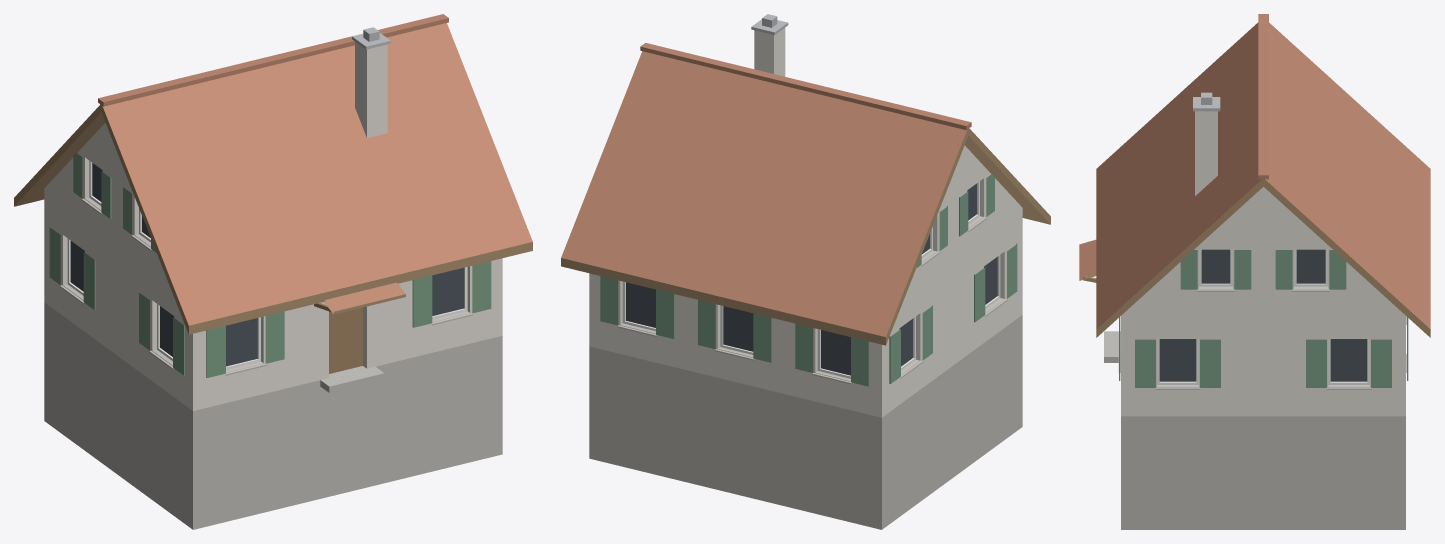
The model's file is house_gable_1_s.glb.
3 views of the same model, side by side, from view 1: azimuth 30°, elevation 25°; view 2: azimuth 150°, elevation 25°; view 3: azimuth 270°, elevation 25° (orthographic). The views are drawn at different scales.
Visible parts, largest first — view 1: house_gable_1_s; view 2: house_gable_1_s; view 3: house_gable_1_s.
Boxes of the visible parts, x1,y1,x2,y2 form: house_gable_1_s: (14, 14, 532, 529); house_gable_1_s: (561, 14, 1050, 529); house_gable_1_s: (1079, 14, 1430, 529).
Bounding box in the file's own units: 10.04 × 11.45 × 9.25.
